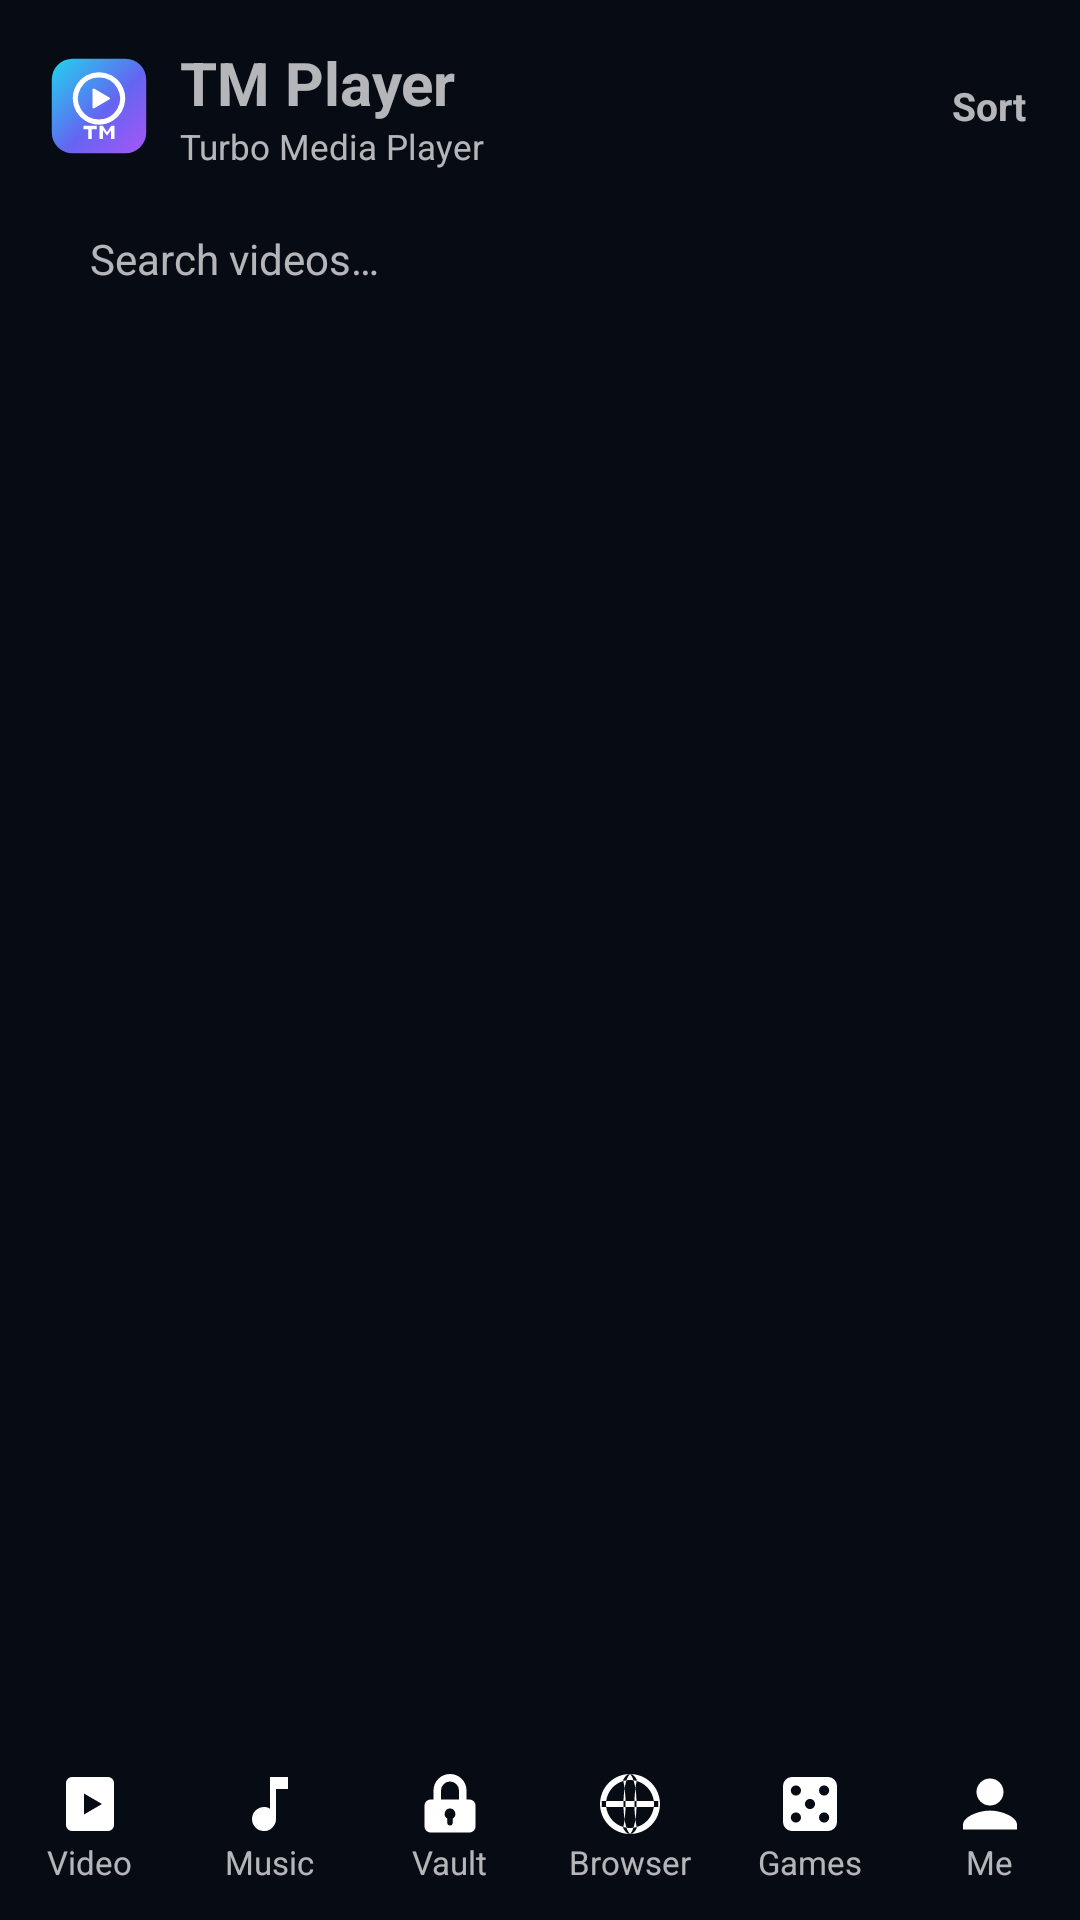

Icon bounding boxes for this 1080 x 1920 phone screenshot, format Rect(x1, y1, x2, y2):
person: Rect(963, 1778, 1017, 1830)
